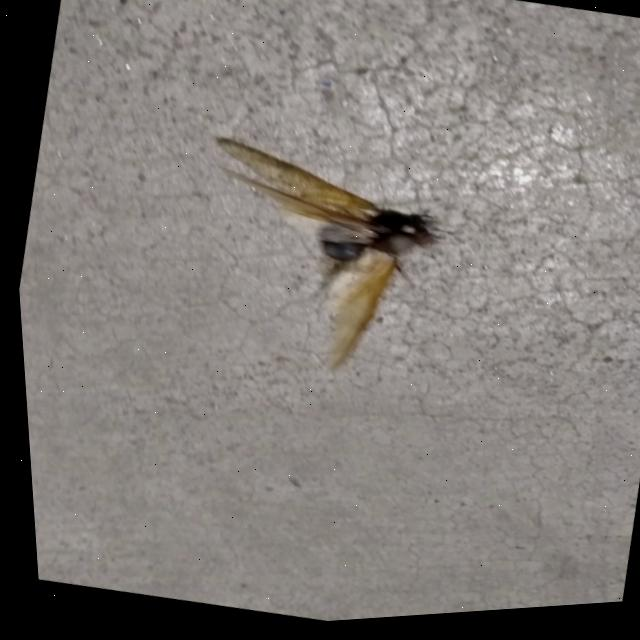Dead-Female-Alate: (173, 154, 458, 402)
